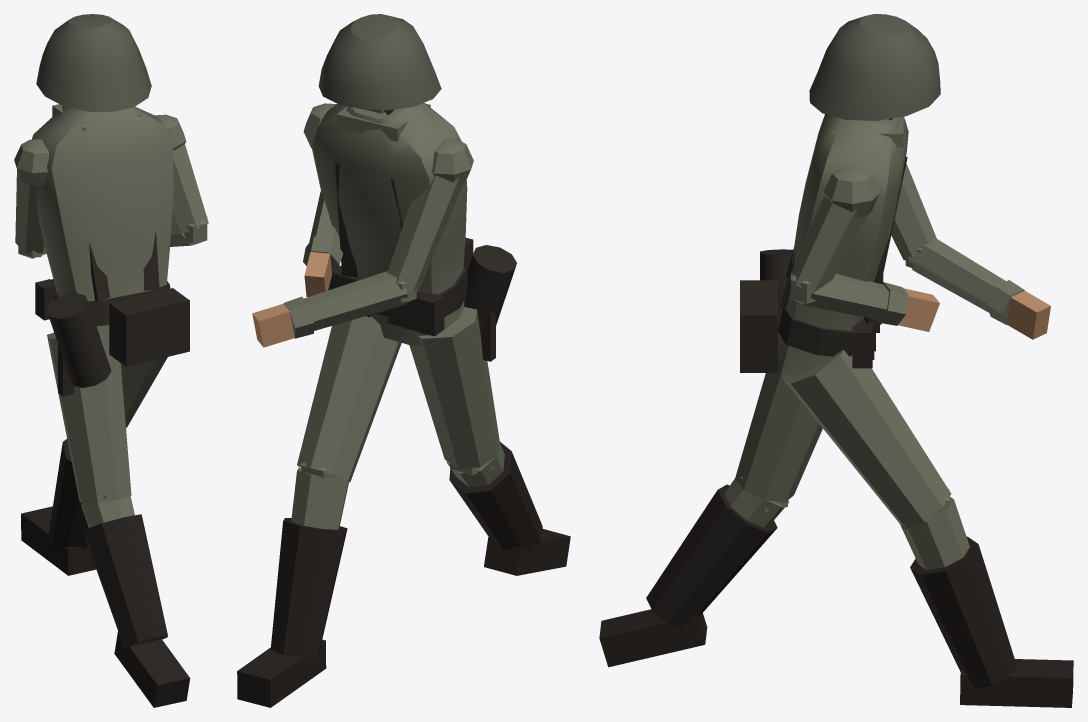
The model's file is soldier_de_advance_rifle.glb.
3 views of the same model, side by side, from view 1: azimuth 30°, elevation 25°; view 2: azimuth 150°, elevation 25°; view 3: azimuth 270°, elevation 25° (orthographic). The views are drawn at different scales.
Visible parts, largest first — view 1: soldier_de_advance_rifle; view 2: soldier_de_advance_rifle; view 3: soldier_de_advance_rifle.
Boxes of the visible parts, bbox=[...] form: soldier_de_advance_rifle: bbox=[14, 14, 208, 707]; soldier_de_advance_rifle: bbox=[237, 14, 570, 707]; soldier_de_advance_rifle: bbox=[599, 14, 1073, 707].
Bounding box in the file's own units: 0.5177 × 1.72 × 1.12.
